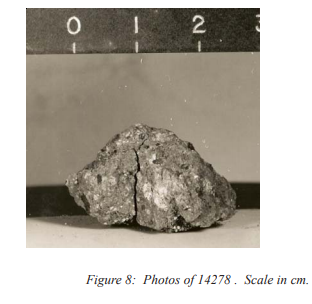Breccia: (66, 105, 255, 244)
